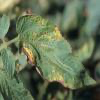Tomato leaf bacterial spot: (11, 13, 96, 94)
